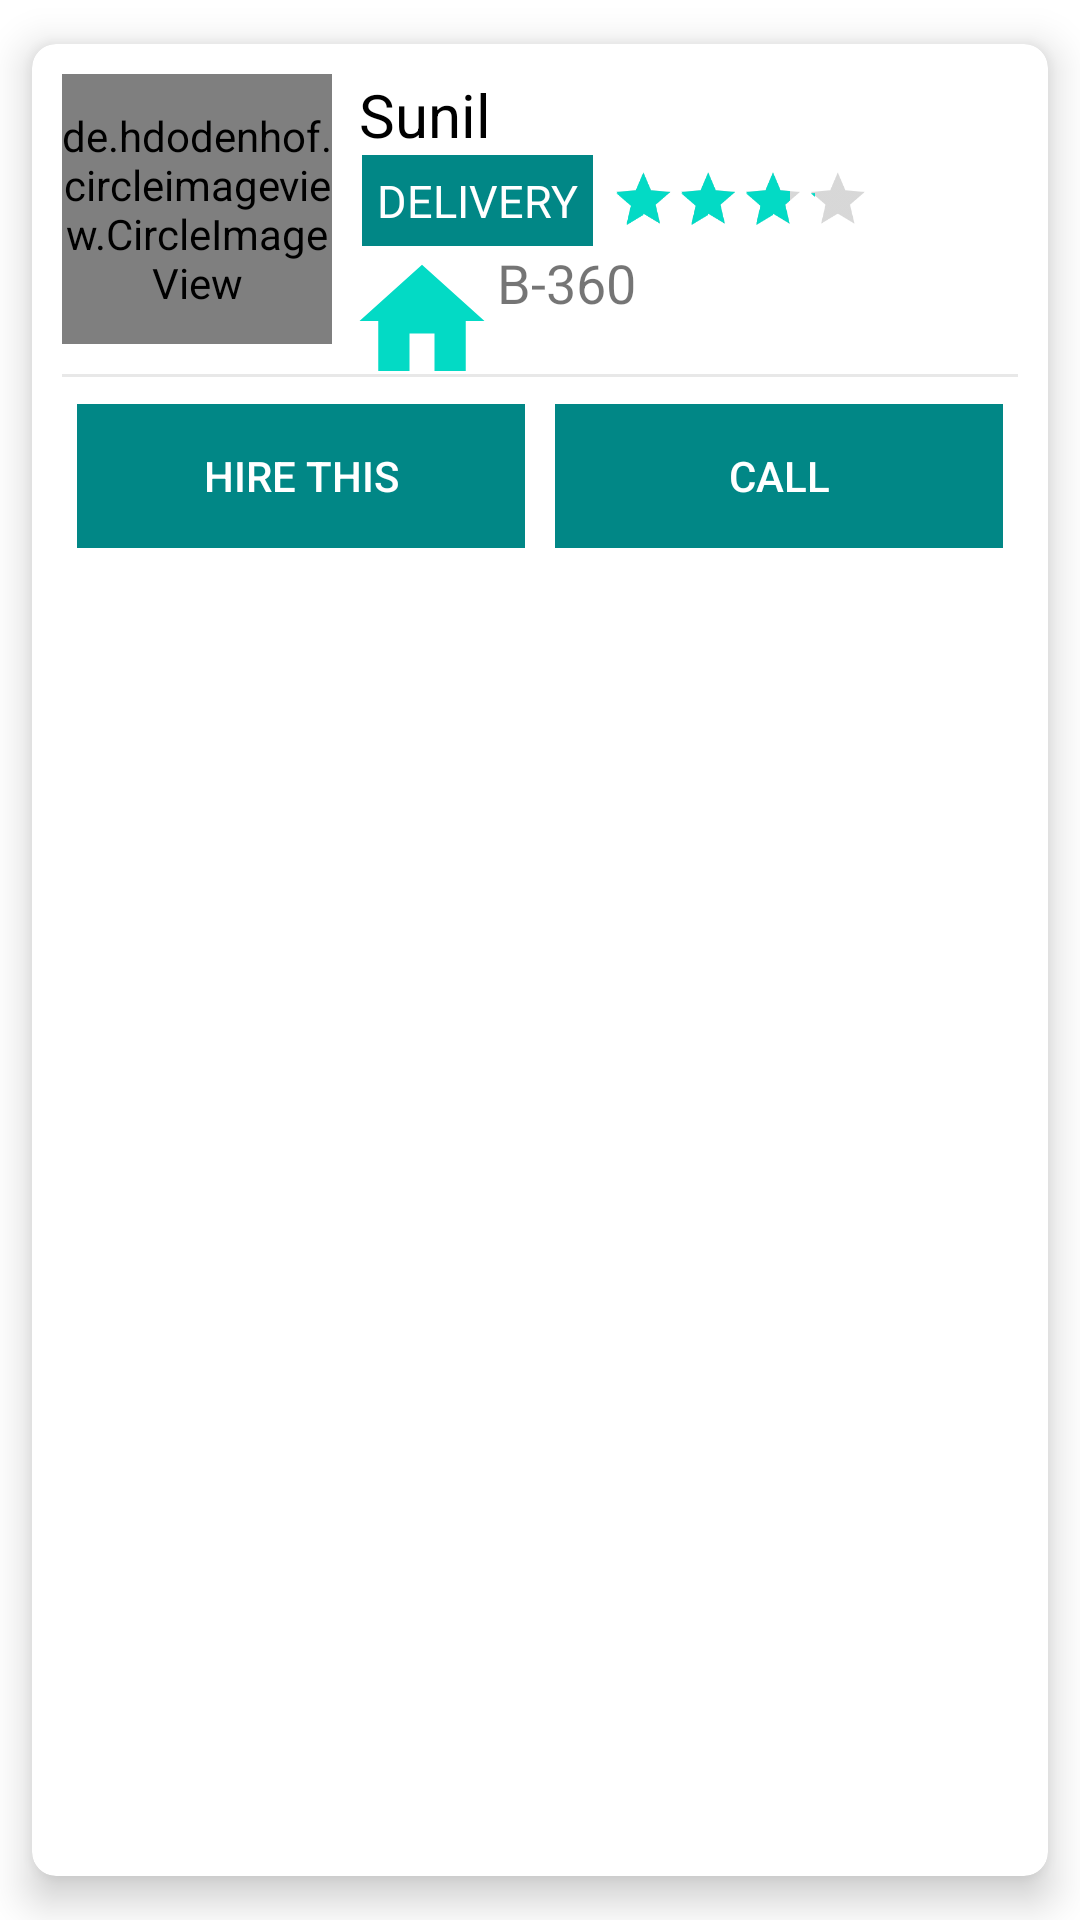

Where to tap for icons on this 1080x1920 app screen, as [x,y]:
home: [422,318]
